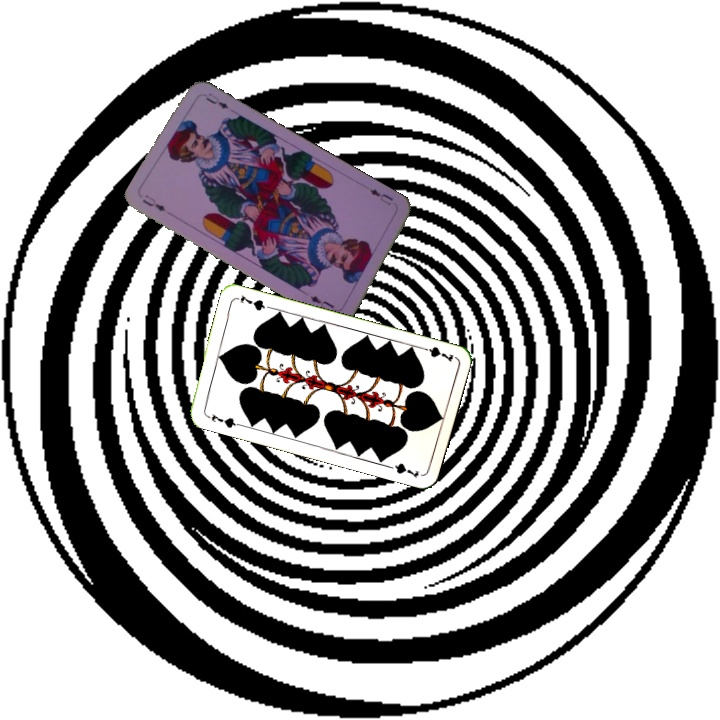EU: (138, 190, 168, 214), (366, 185, 395, 208)
G7: (417, 342, 456, 365), (202, 410, 242, 431)
